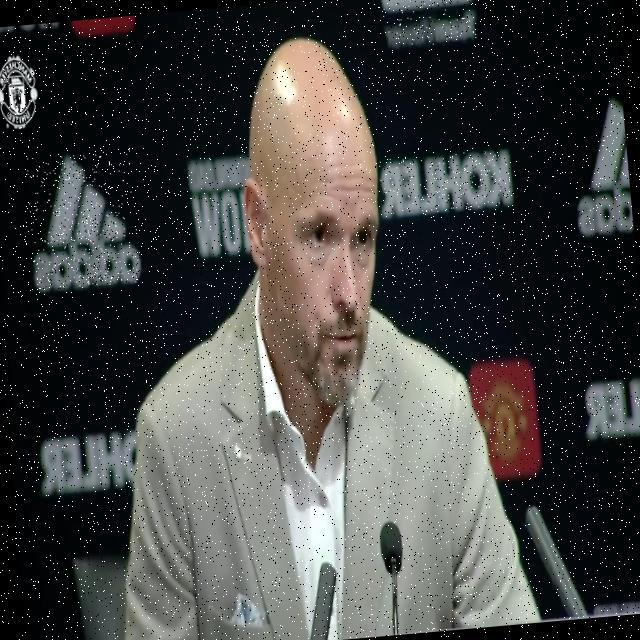Adidas: (25, 149, 142, 291)
Kohler: (378, 148, 516, 217)
TeamViewer: (380, 0, 477, 48)
